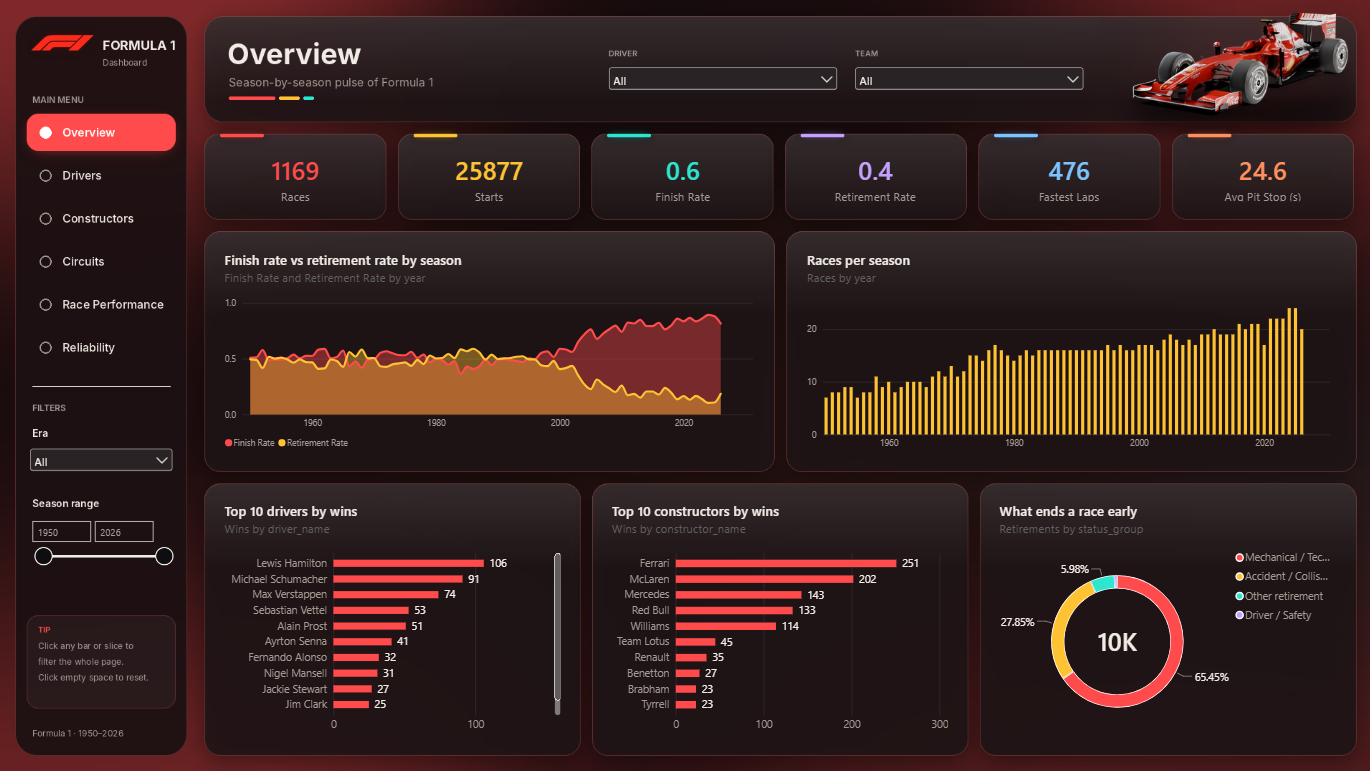

What the dashboard file says about the page in this screenshot:
{"tool":"powerbi","page":{"name":"Overview","canvas":[1920,1080],"ordinal":0},"visuals":[{"type":"actionButton","box":[40,160,208,52],"z":1000},{"type":"actionButton","box":[40,220,208,52],"z":2000},{"type":"actionButton","box":[40,280,208,52],"z":3000},{"type":"actionButton","box":[40,340,208,52],"z":4000},{"type":"actionButton","box":[40,400,208,52],"z":5000},{"type":"actionButton","box":[40,460,208,52],"z":6000},{"type":"slicer","fields":{"Values":["dim_race.era"]},"box":[40,622,208,44],"z":7000},{"type":"slicer","fields":{"Values":["dim_race.year"]},"box":[40,724,208,96],"z":8000},{"type":"slicer","fields":{"Values":["dim_driver.driver_name"]},"box":[848,90,328,40],"z":9000},{"type":"slicer","fields":{"Values":["dim_constructor.constructor_name"]},"box":[1192,90,328,40],"z":10000},{"type":"card","fields":{"Values":["_Measures.Races"]},"box":[300,202,230,96],"z":11000},{"type":"card","fields":{"Values":["_Measures.Starts"]},"box":[570,202,230,96],"z":12000},{"type":"card","fields":{"Values":["_Measures.Finish Rate"]},"box":[840,202,230,96],"z":13000},{"type":"card","fields":{"Values":["_Measures.Retirement Rate"]},"box":[1110,202,230,96],"z":14000},{"type":"card","fields":{"Values":["_Measures.Fastest Laps"]},"box":[1380,202,230,96],"z":15000},{"type":"card","fields":{"Values":["_Measures.Avg Pit Stop (s)"]},"box":[1650,202,230,96],"z":16000},{"type":"areaChart","title":"Finish rate vs retirement rate by season","fields":{"Category":["dim_race.year"],"Y":["_Measures.Finish Rate","_Measures.Retirement Rate"]},"box":[300,336,772,312],"z":17000},{"type":"clusteredColumnChart","title":"Races per season","fields":{"Category":["dim_race.year"],"Y":["_Measures.Races"]},"box":[1112,336,772,312],"z":18000},{"type":"clusteredBarChart","title":"Top 10 drivers by wins","fields":{"Category":["dim_driver.driver_name"],"Y":["_Measures.Wins"]},"box":[300,688,501,356],"z":19000},{"type":"clusteredBarChart","title":"Top 10 constructors by wins","fields":{"Category":["dim_constructor.constructor_name"],"Y":["_Measures.Wins"]},"box":[841,688,501,356],"z":20000},{"type":"donutChart","title":"What ends a race early","fields":{"Category":["dim_status.status_group"],"Y":["_Measures.Retirements"]},"box":[1382,688,502,356],"z":21000}]}

Visuals, with their boxes in screenshot pixels (x1, y1, x2, y2), scaled from the page's 1920x1080 canvas onto the 1370x771 screenshot:
actionButton: (29, 114, 177, 151)
actionButton: (29, 157, 177, 194)
actionButton: (29, 200, 177, 237)
actionButton: (29, 243, 177, 280)
actionButton: (29, 286, 177, 323)
actionButton: (29, 328, 177, 366)
slicer - dim_race.era: (29, 444, 177, 475)
slicer - dim_race.year: (29, 517, 177, 585)
slicer - dim_driver.driver_name: (605, 64, 839, 93)
slicer - dim_constructor.constructor_name: (851, 64, 1085, 93)
card - _Measures.Races: (214, 144, 378, 213)
card - _Measures.Starts: (407, 144, 571, 213)
card - _Measures.Finish Rate: (599, 144, 763, 213)
card - _Measures.Retirement Rate: (792, 144, 956, 213)
card - _Measures.Fastest Laps: (985, 144, 1149, 213)
card - _Measures.Avg Pit Stop (s): (1177, 144, 1341, 213)
"Finish rate vs retirement rate by season" areaChart: (214, 240, 765, 463)
"Races per season" clusteredColumnChart: (793, 240, 1344, 463)
"Top 10 drivers by wins" clusteredBarChart: (214, 491, 572, 745)
"Top 10 constructors by wins" clusteredBarChart: (600, 491, 958, 745)
"What ends a race early" donutChart: (986, 491, 1344, 745)
